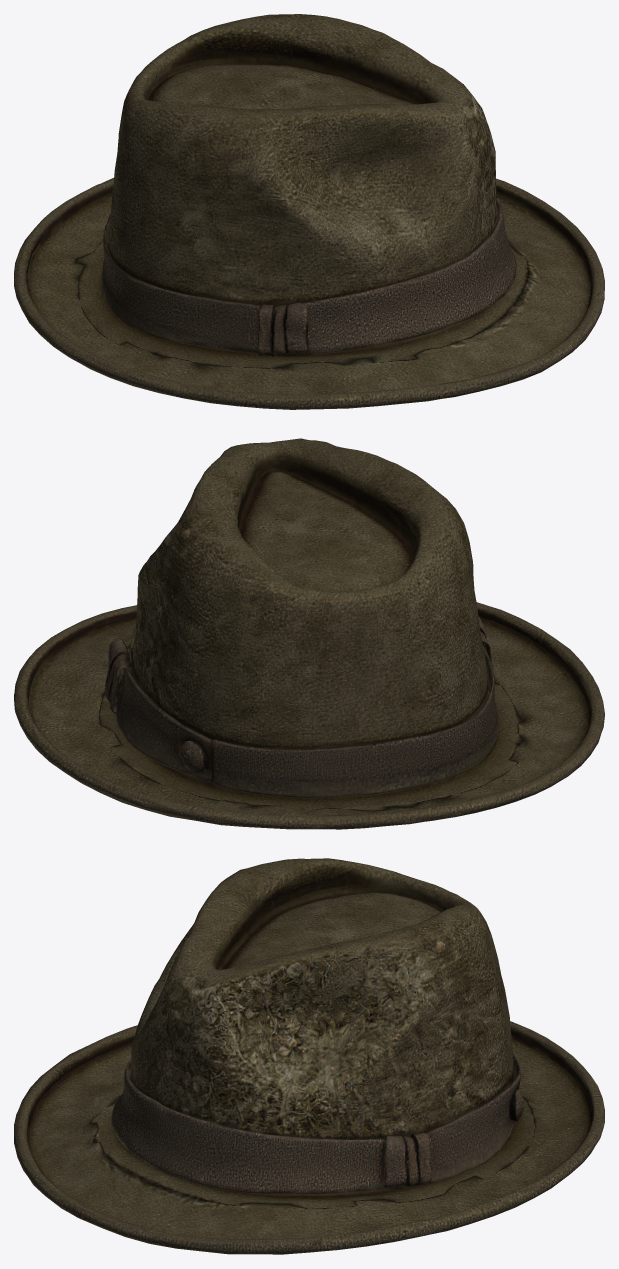
Rendered from prop-felt-hat-v01.glb.
The picture shows the model from 3 angles, top to bottom: view 1: azimuth 30°, elevation 25°; view 2: azimuth 150°, elevation 25°; view 3: azimuth 270°, elevation 25°; orthographic projection. The views are drawn at different scales.
Visible parts, largest first — view 1: tripo_node_f98db4c1-9fa1-4c50-8e67-95d36a996d80; view 2: tripo_node_f98db4c1-9fa1-4c50-8e67-95d36a996d80; view 3: tripo_node_f98db4c1-9fa1-4c50-8e67-95d36a996d80.
Part boxes in pixels (left/top/right/bottom): tripo_node_f98db4c1-9fa1-4c50-8e67-95d36a996d80: left=14, top=14, right=604, bottom=409; tripo_node_f98db4c1-9fa1-4c50-8e67-95d36a996d80: left=14, top=438, right=604, bottom=829; tripo_node_f98db4c1-9fa1-4c50-8e67-95d36a996d80: left=14, top=858, right=604, bottom=1254.
Size of the model in its own units: 0.4315 by 0.19 by 0.4298.
Materials: 1 (1 with a texture image).
